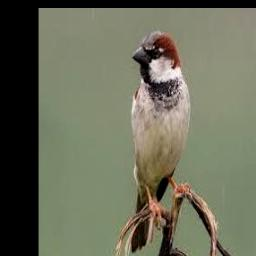Sparrow: (130, 30, 192, 252)
